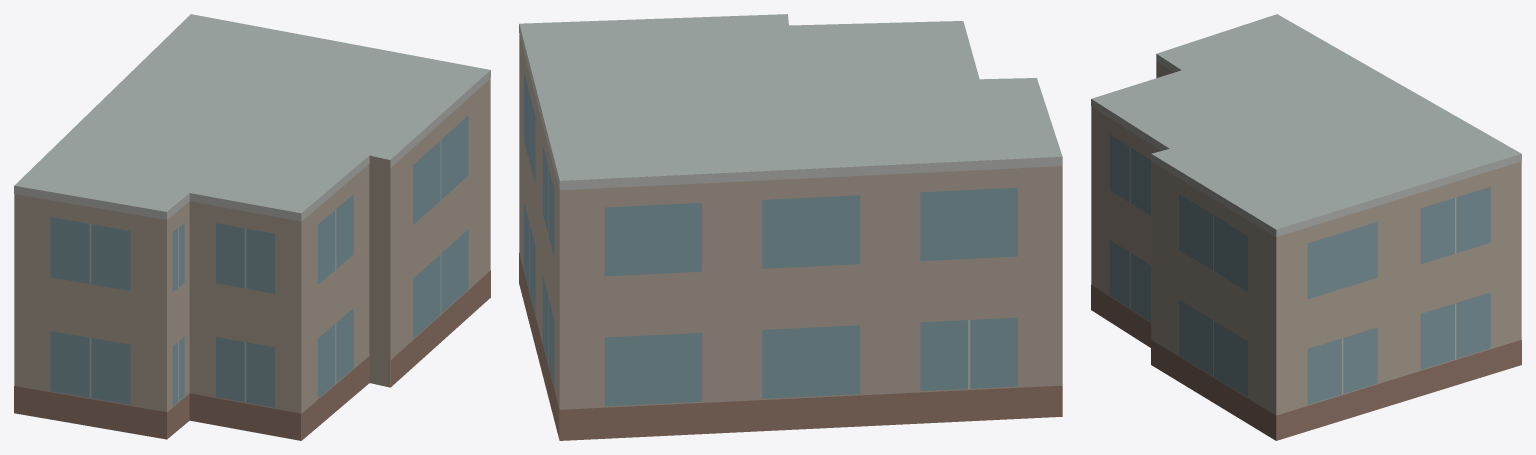
Rendered from survey-upis-32911133.glb.
The picture shows the model from 3 angles, left to right: view 1: azimuth 30°, elevation 25°; view 2: azimuth 150°, elevation 25°; view 3: azimuth 270°, elevation 25°; orthographic projection. The views are drawn at different scales.
Parts seen in each view (by area): view 1: survey-upis-32911133.tmp; view 2: survey-upis-32911133.tmp; view 3: survey-upis-32911133.tmp.
Boxes of the visible parts, x1,y1,x2,y2 form: survey-upis-32911133.tmp: (14,14,490,440); survey-upis-32911133.tmp: (519,14,1062,440); survey-upis-32911133.tmp: (1091,14,1521,440).
Bounding box in the file's own units: 14.9 × 6.8 × 12.57.
